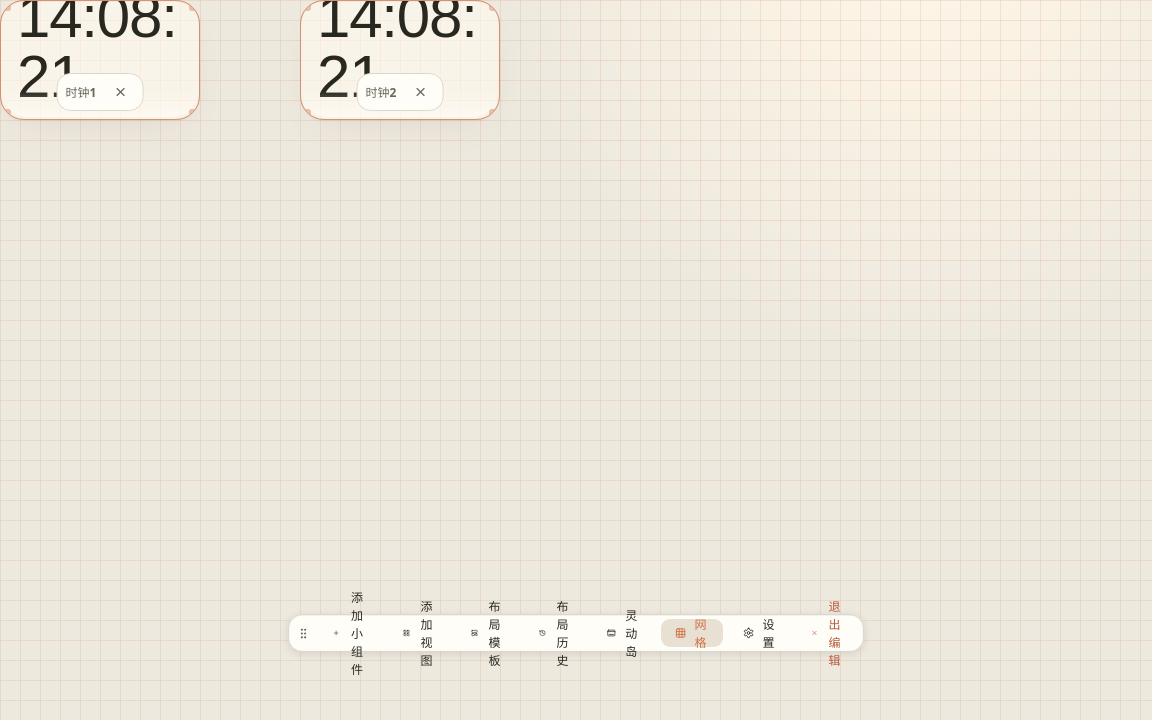
Test: 编辑工具栏弹层治理 › 同锚位弹层互斥：模板→历史→灵动岛，任一时刻至多一个
The image size is (1152, 720).
What coordinates should you click on to do the following:
click the button "布局模板"
I would click on:
 (488, 633)
Its box is [457, 619, 519, 647].
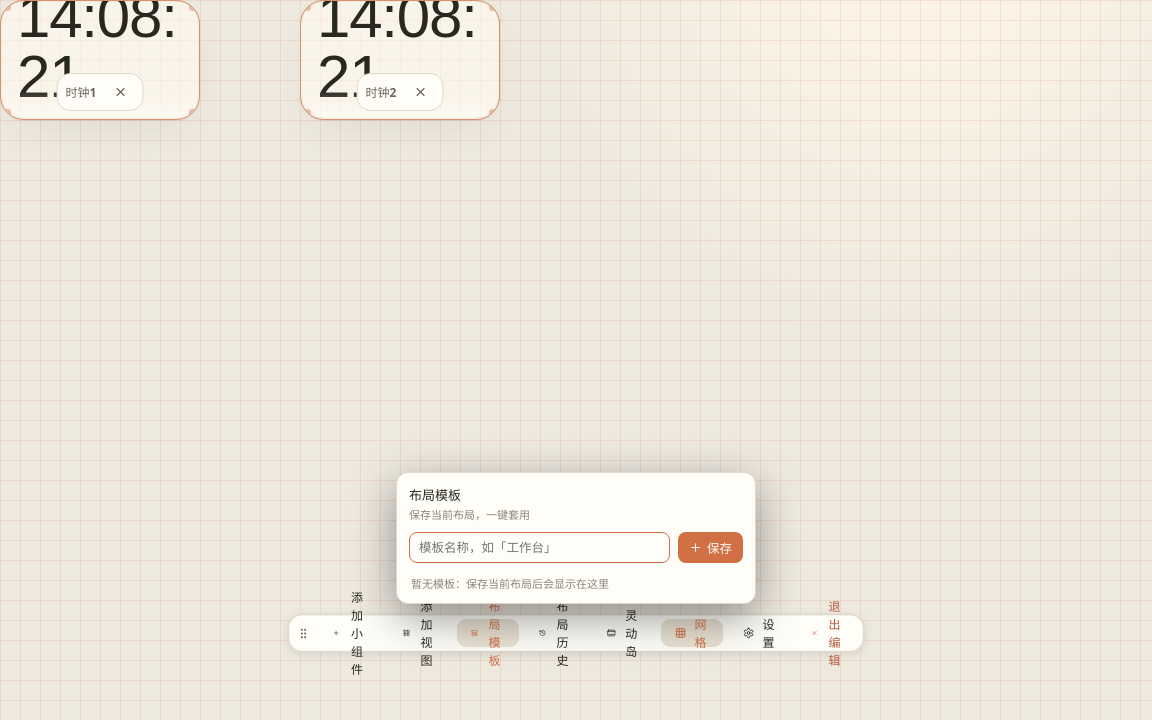
Result: the dialog "布局模板" is shown at [396, 472, 756, 604]
What coordinates should you click on to do the following:
click the button "布局历史"
I would click on:
 (556, 633)
Its box is [525, 619, 587, 647].
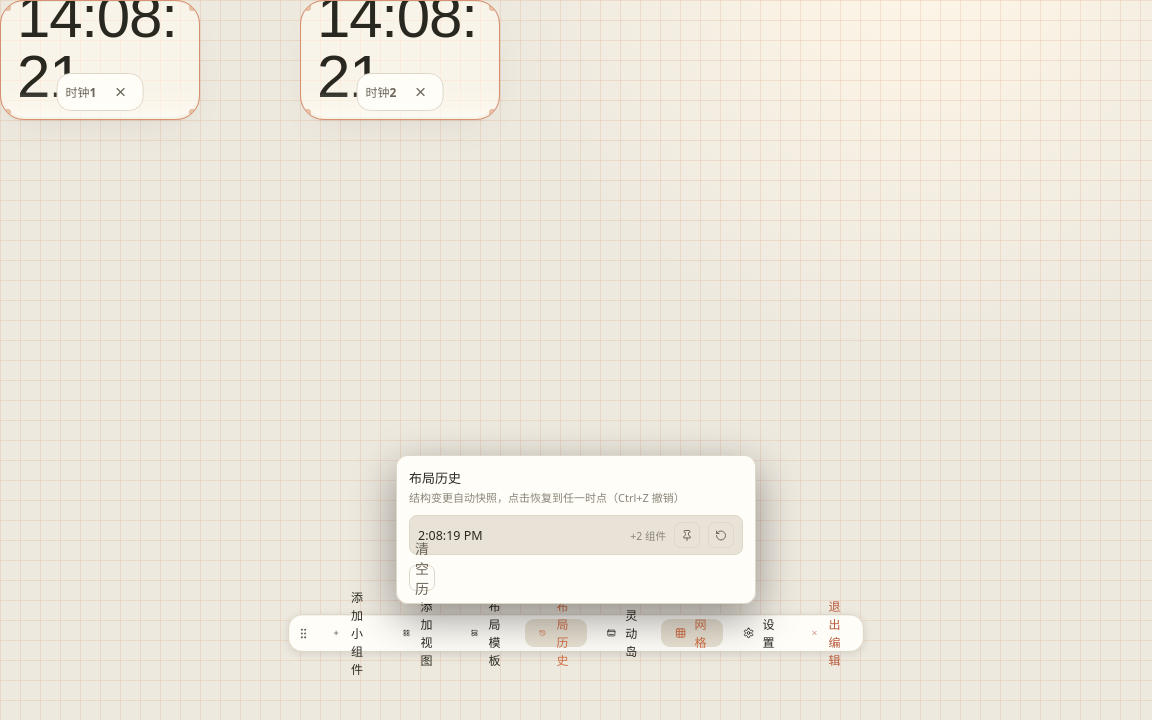
Result: the dialog "布局模板 保存当前布局，一键套用 保存 暂无模板：保存当前布局后会显示在这里" is gone
Result: the dialog "布局历史" is shown at [396, 455, 756, 604]
Note: 灵动岛面板懒加载（动态 import），同样参与互斥。
What coordinates should you click on to do the following:
click the button "灵动岛"
I would click on:
 (624, 633)
Its box is [593, 619, 655, 647].
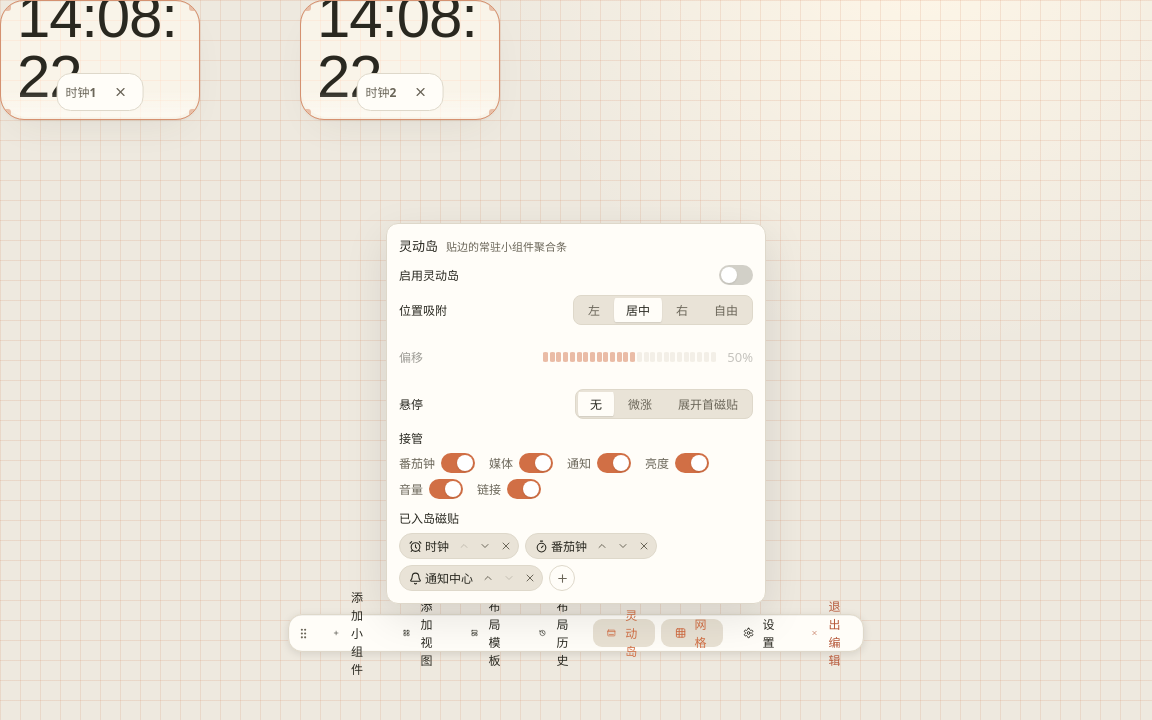
Expected: the dialog "布局模板 保存当前布局，一键套用 保存 暂无模板：保存当前布局后会显示在这里" is not shown
Result: the dialog "布局历史 结构变更自动快照，点击恢复到任一时点（Ctrl+Z 撤销） 2:08:19 PM +2 组件 清空历史" is gone
Result: the dialog "灵动岛" is shown at [386, 223, 766, 604]
